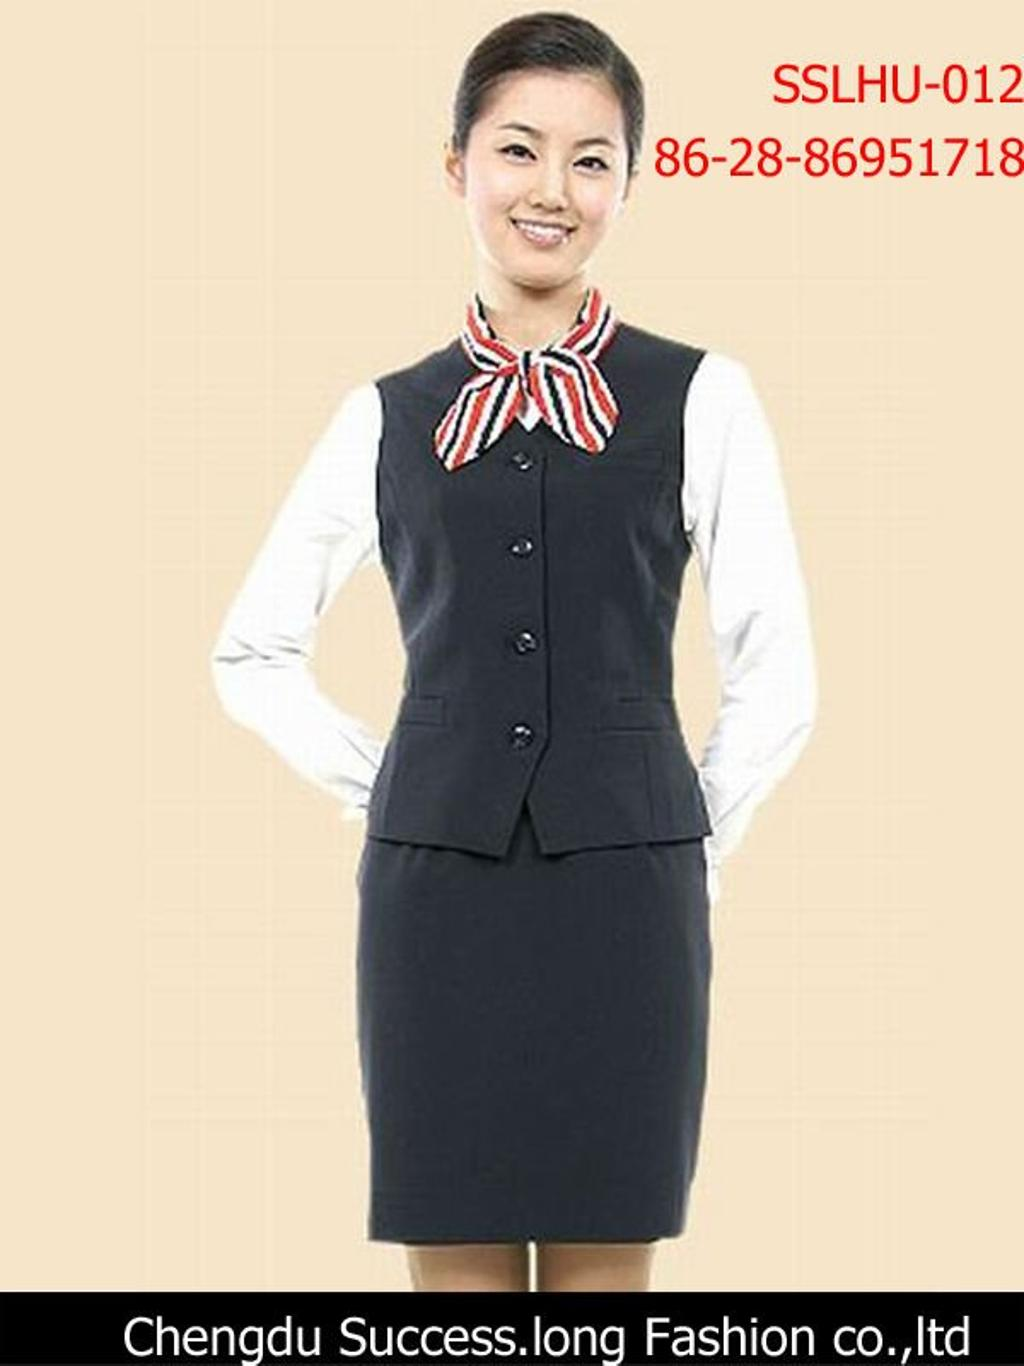face: (469, 72, 624, 285)
